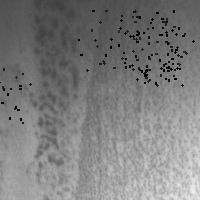pitted_surface: (86, 1, 200, 199), (24, 1, 83, 175), (78, 10, 138, 69), (118, 18, 174, 78), (136, 27, 192, 84), (132, 10, 184, 68), (0, 62, 29, 122)
